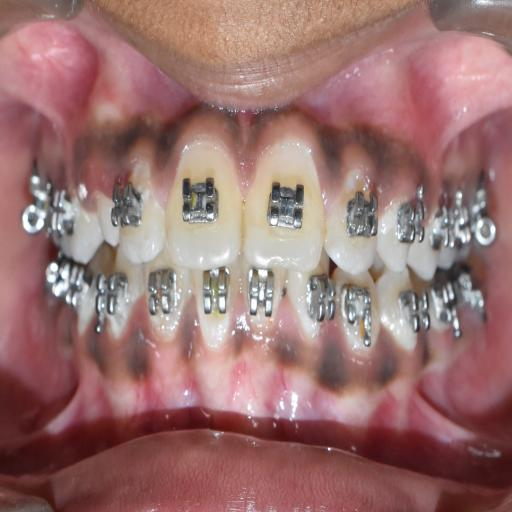correct_brace: (265, 164, 306, 238), (177, 168, 221, 232), (340, 181, 380, 248), (396, 182, 426, 256), (107, 179, 143, 234)
incorrect_brace: (323, 152, 381, 278), (112, 152, 166, 268)
